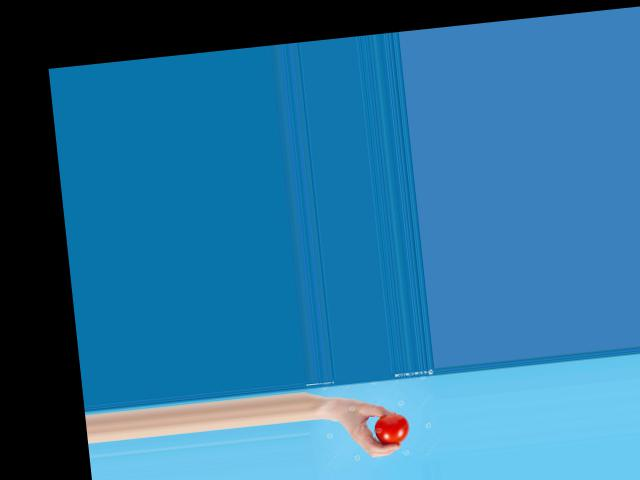tomato: (373, 413, 410, 446)
